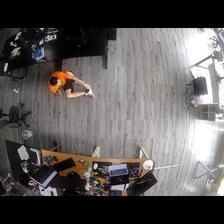fall: (48, 69, 95, 101)
